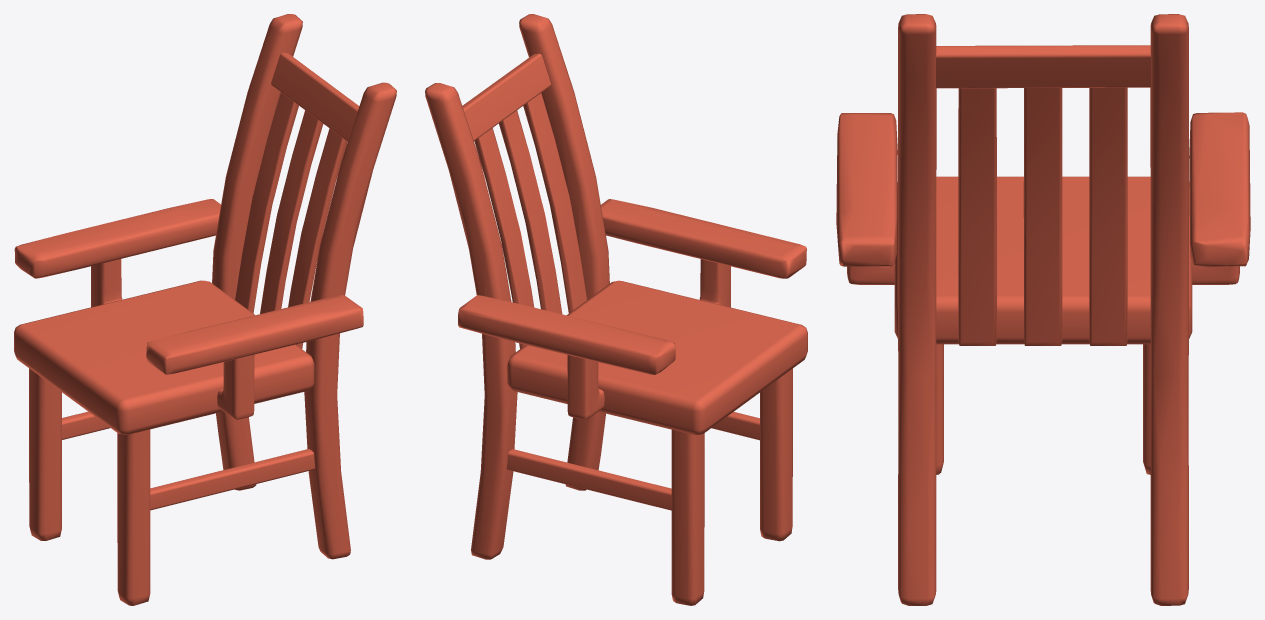
File: chair_08_salmon.fbx
The picture shows the model from 3 angles, left to right: view 1: azimuth 30°, elevation 25°; view 2: azimuth 150°, elevation 25°; view 3: azimuth 270°, elevation 25°; orthographic projection. The views are drawn at different scales.
Visible parts, largest first — view 1: chair_08_salmon; view 2: chair_08_salmon; view 3: chair_08_salmon.
Boxes of the visible parts, x1=… form: chair_08_salmon: x1=14, y1=14, x2=396, y2=605; chair_08_salmon: x1=425, y1=14, x2=807, y2=605; chair_08_salmon: x1=836, y1=14, x2=1250, y2=605.
Size of the model in its own units: 67.91 by 106 by 64.81.
1 material, 1 textured.
